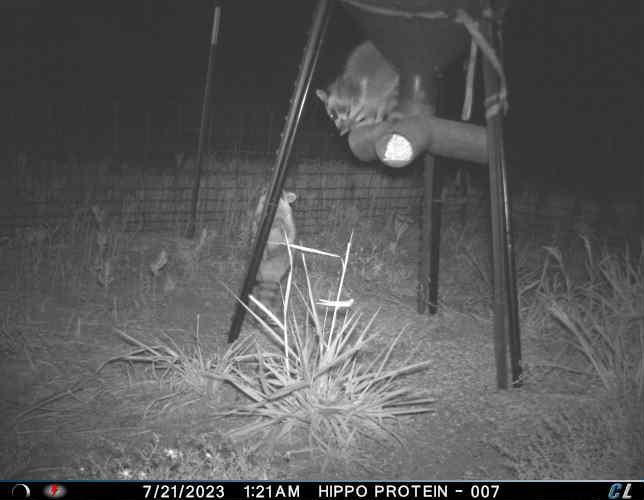Raccoon: (312, 39, 406, 136), (248, 185, 300, 322)
